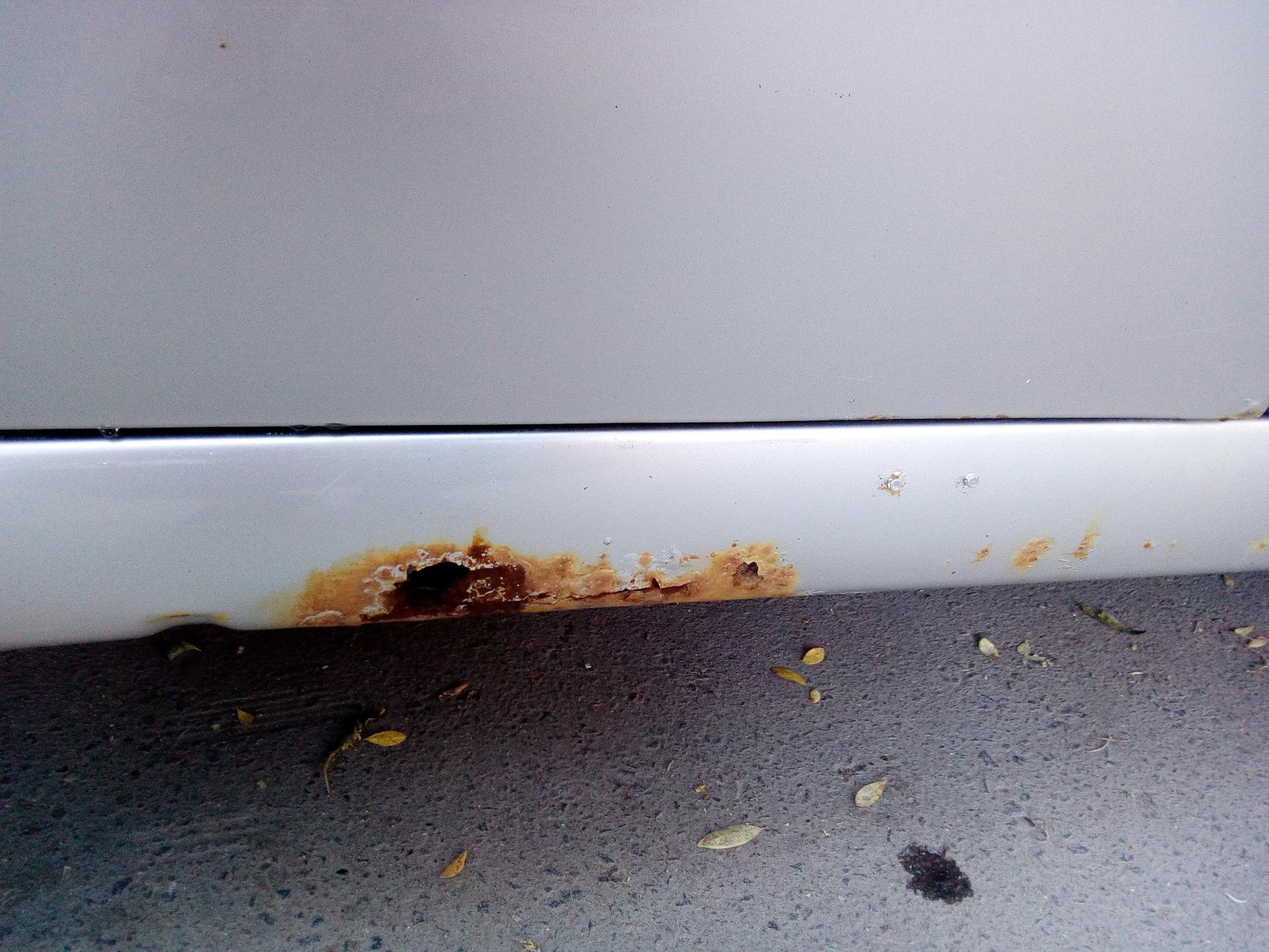corrosion: (295, 534, 796, 628), (960, 528, 1003, 581), (1065, 517, 1102, 576), (1013, 528, 1051, 577)
